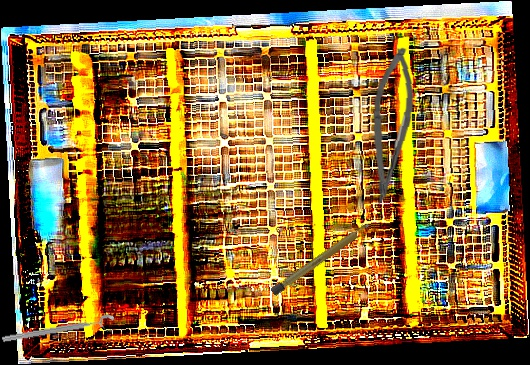Fixation Ring: (1, 313, 117, 352)
Micro Scissor: (367, 45, 418, 207)
Scalpel Handle: (269, 220, 374, 297)
